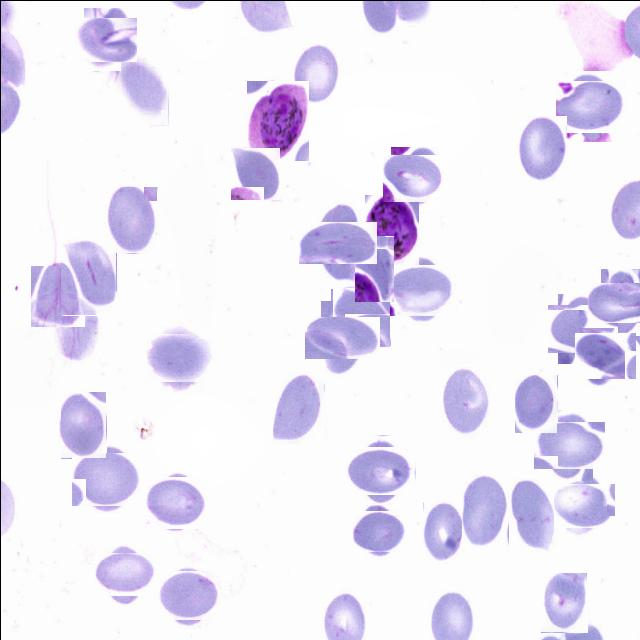difficult: (364, 194, 419, 266)
gametocyte: (246, 80, 308, 160)
red blood cell: (60, 238, 116, 315), (75, 448, 137, 510), (389, 259, 451, 321), (559, 75, 621, 136), (272, 373, 324, 445), (306, 212, 368, 272), (440, 366, 490, 440), (461, 471, 508, 549), (103, 186, 157, 253), (350, 440, 410, 500), (538, 414, 598, 474), (552, 298, 612, 358), (507, 476, 553, 553), (150, 328, 210, 387), (312, 308, 371, 367), (331, 287, 389, 346), (158, 566, 216, 624), (146, 472, 204, 530), (120, 55, 168, 125), (30, 265, 84, 326), (516, 115, 566, 180), (386, 150, 442, 206), (60, 391, 106, 458), (554, 478, 610, 532), (578, 328, 632, 382), (78, 12, 132, 65), (540, 572, 587, 632), (99, 547, 152, 600), (291, 43, 338, 102), (354, 235, 394, 302), (230, 147, 280, 200), (514, 374, 557, 433), (594, 275, 640, 329), (422, 501, 464, 560), (355, 507, 403, 555)
